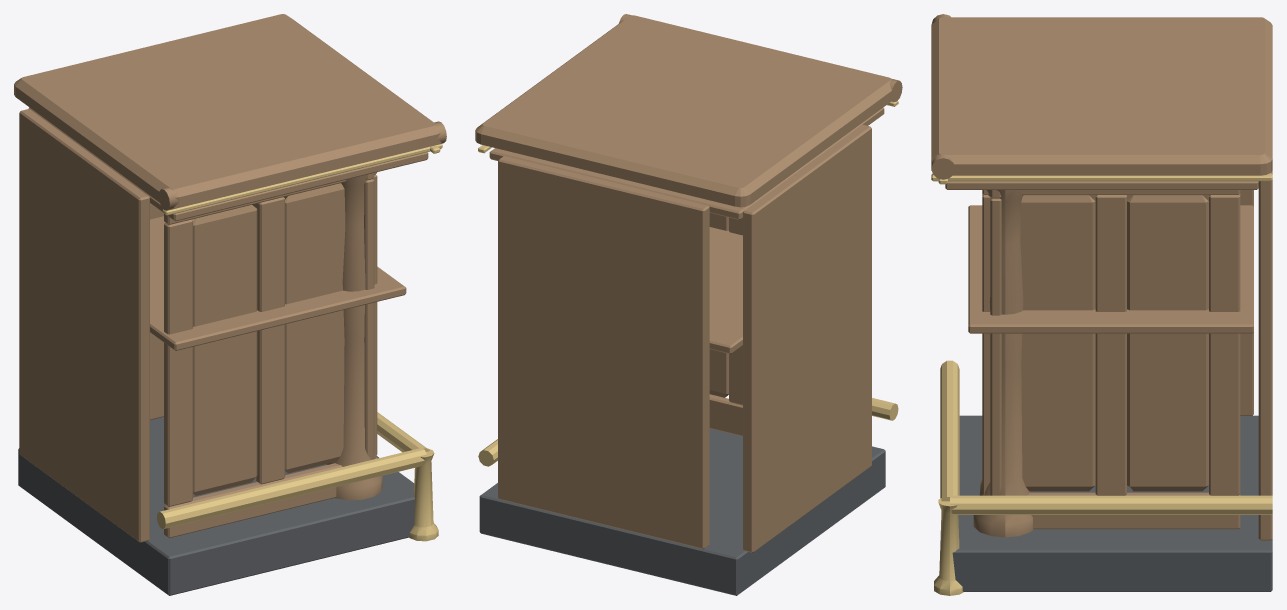
Rendered from bar-pub-and-brewery-taproom-bar-counter-corner-fb3dd981__18322.glb.
The picture shows the model from 3 angles, left to right: view 1: azimuth 30°, elevation 25°; view 2: azimuth 150°, elevation 25°; view 3: azimuth 270°, elevation 25°; orthographic projection. The views are drawn at different scales.
Parts seen in each view (by area): view 1: bar-counter-corner; view 2: bar-counter-corner; view 3: bar-counter-corner.
Part boxes in pixels (x1,y1,x2,y2): bar-counter-corner: (14,14,446,595); bar-counter-corner: (475,14,902,595); bar-counter-corner: (931,14,1272,595).
Bounding box in the file's own units: 0.74 × 1.05 × 0.74.
